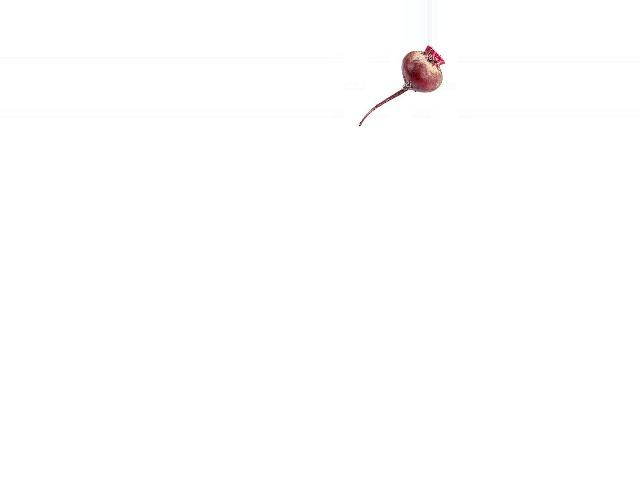beet: (358, 45, 444, 126)
